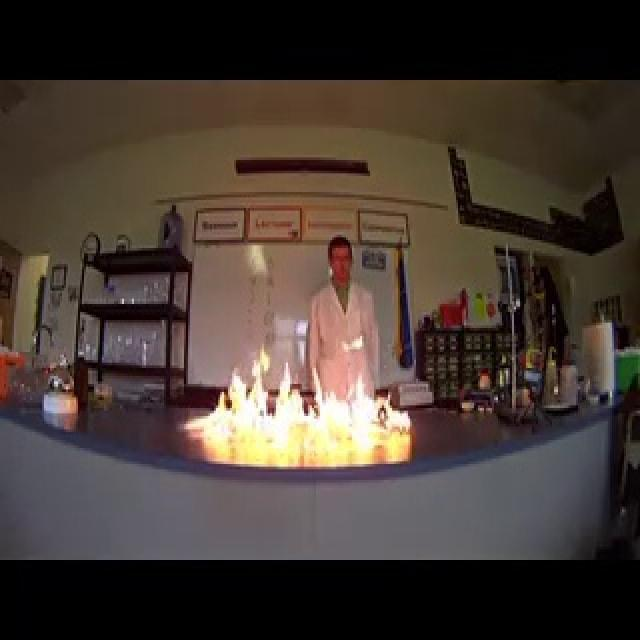smoke: (180, 344, 416, 437)
